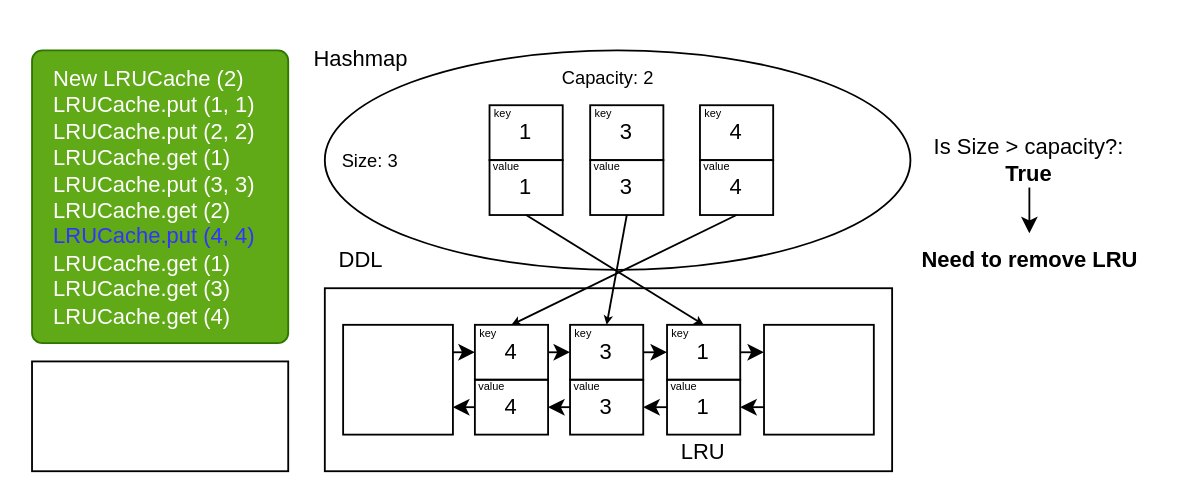
The diagram is 1184 pixels wide and 503 high, and some of its shapes have lost their labels. The centre of each missing label's shape, as x and y in pixels:
Head: point (397, 379)
output >: point (159, 415)
Tail: point (818, 379)
